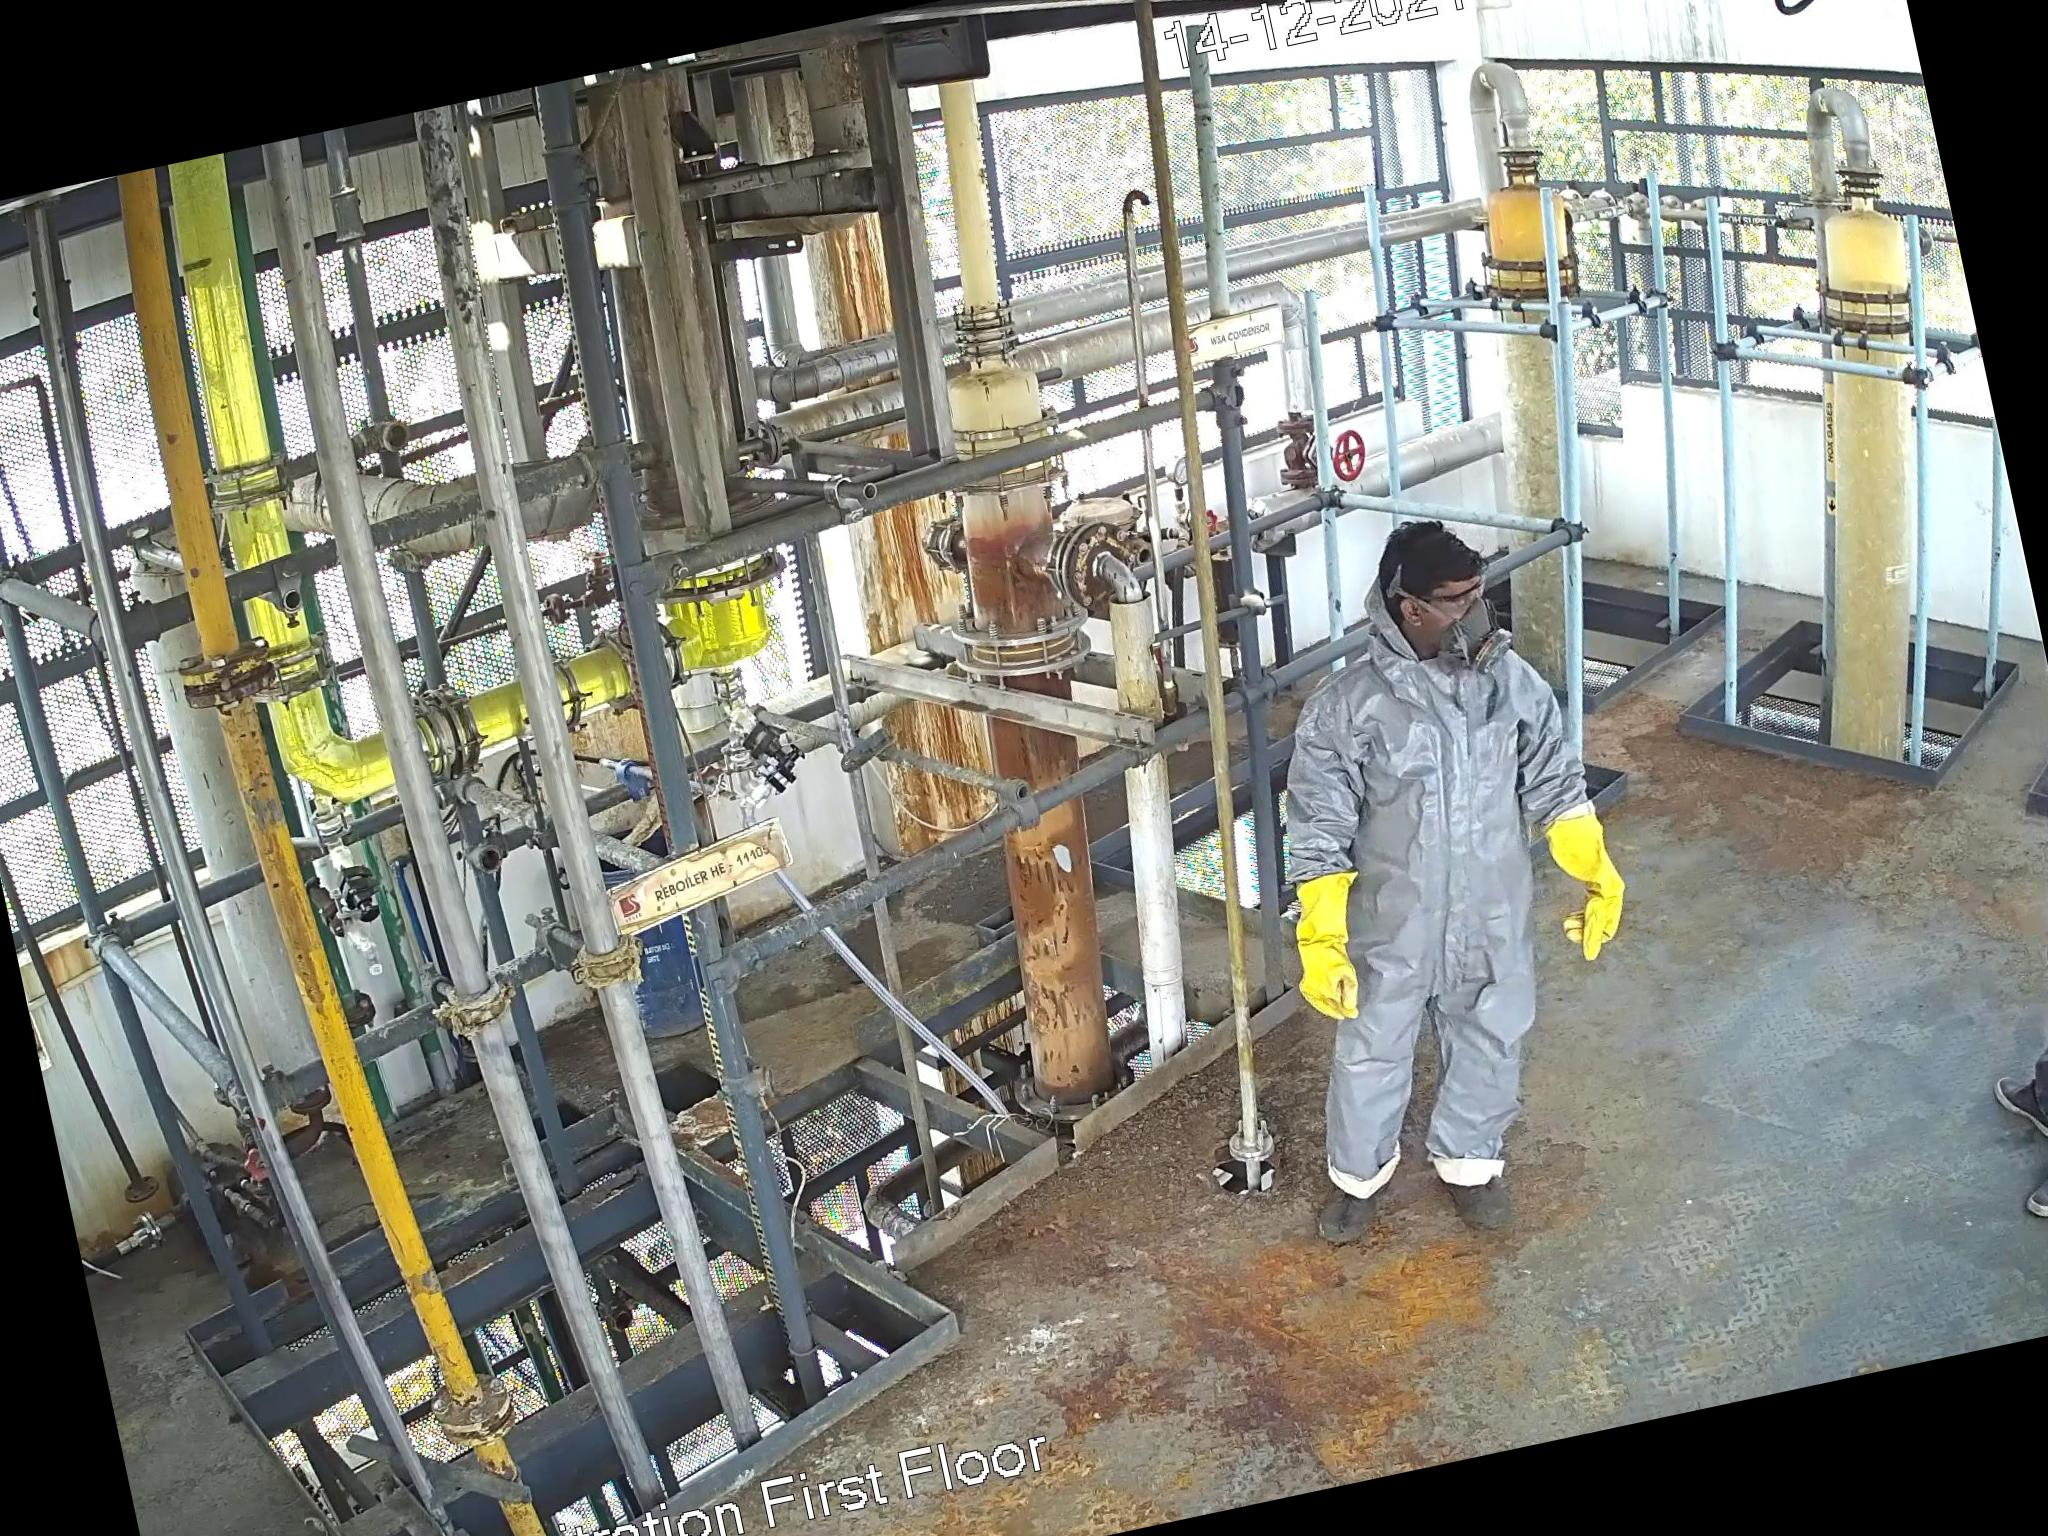Gloves: (1263, 865, 1395, 1046), (1537, 808, 1650, 987)
